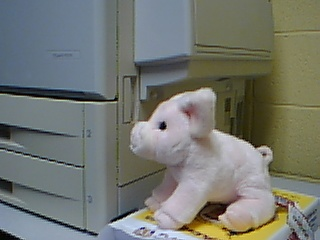piggy: (128, 86, 277, 233)
